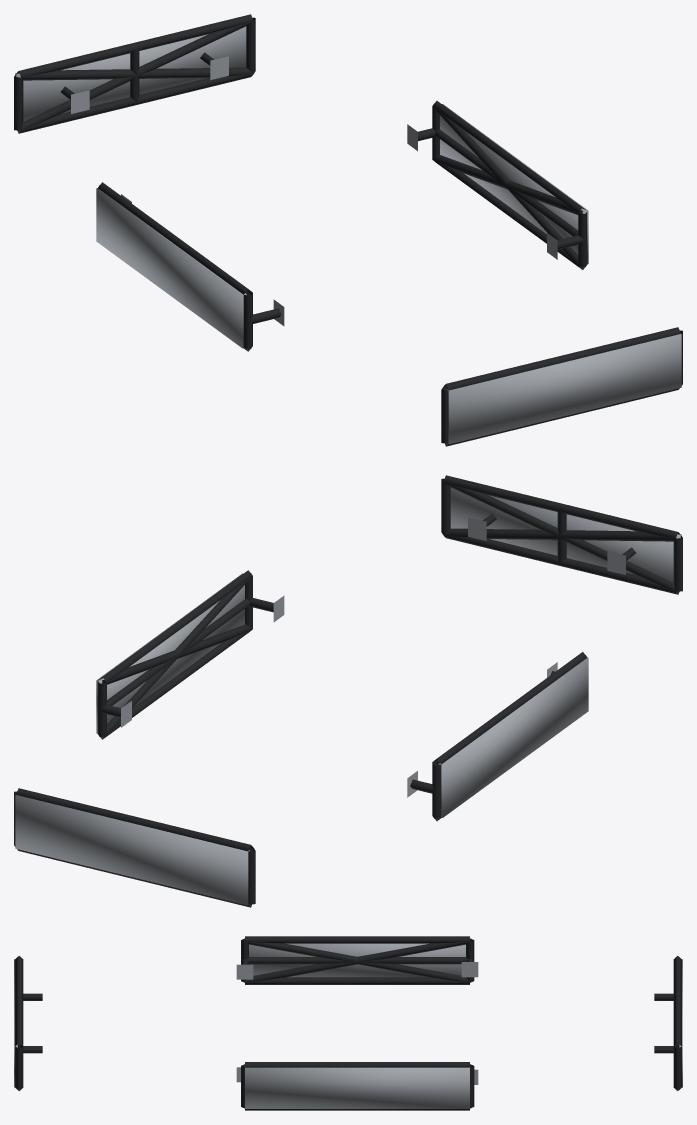
Rendered from feldhaus_chale_protecao.glb.
3 views of the same model, one above another, from view 1: azimuth 30°, elevation 25°; view 2: azimuth 150°, elevation 25°; view 3: azimuth 270°, elevation 25° (orthographic). The views are drawn at different scales.
Parts seen in each view (by area): view 1: Protection_front_Level3_Details, Protection_left_Level3_Details, Protection_rear_Level1_Details, Protection_rear_Level3_Details, Protection_right_Level1_Details, Protection_rear_Level2_Details, Protection_right_Level2_Details, Protection_right_Level3_Details, Protection_front_Level1_Details, Protection_left_Level1_Details; view 2: Protection_rear_Level3_Details, Protection_left_Level3_Details, Protection_front_Level1_Details, Protection_front_Level3_Details, Protection_right_Level1_Details, Protection_front_Level2_Details, Protection_right_Level2_Details, Protection_right_Level3_Details, Protection_rear_Level1_Details, Protection_left_Level1_Details; view 3: Protection_right_Level3_Details, Protection_left_Level2_Details, Protection_left_Level1_Details, Protection_left_Level3_Details, Protection_right_Level1_Details, Protection_rear_Level1_Details, Protection_front_Level1_Details.
Boxes of the visible parts, box(x1,y1,x2,y2) form: Protection_front_Level3_Details: box(447, 334, 681, 444); Protection_left_Level3_Details: box(96, 188, 246, 348); Protection_rear_Level1_Details: box(14, 14, 255, 133); Protection_rear_Level3_Details: box(15, 26, 246, 121); Protection_right_Level1_Details: box(407, 100, 587, 269); Protection_rear_Level2_Details: box(16, 21, 253, 132); Protection_right_Level2_Details: box(432, 107, 586, 269); Protection_right_Level3_Details: box(440, 104, 588, 264); Protection_front_Level1_Details: box(441, 327, 682, 446); Protection_left_Level1_Details: box(98, 182, 284, 351); Protection_rear_Level3_Details: box(15, 795, 249, 905); Protection_left_Level3_Details: box(438, 657, 588, 817); Protection_front_Level1_Details: box(441, 475, 682, 594); Protection_front_Level3_Details: box(450, 487, 681, 582); Protection_right_Level1_Details: box(97, 570, 284, 739); Protection_front_Level2_Details: box(443, 482, 680, 593); Protection_right_Level2_Details: box(98, 576, 252, 738); Protection_right_Level3_Details: box(96, 573, 244, 733); Protection_rear_Level1_Details: box(14, 788, 255, 907); Protection_left_Level1_Details: box(407, 652, 587, 821); Protection_right_Level3_Details: box(245, 1067, 469, 1108); Protection_left_Level2_Details: box(244, 939, 470, 982); Protection_left_Level1_Details: box(236, 936, 478, 984); Protection_left_Level3_Details: box(249, 943, 465, 977); Protection_right_Level1_Details: box(236, 1062, 478, 1110); Protection_rear_Level1_Details: box(654, 956, 681, 1090); Protection_front_Level1_Details: box(15, 956, 42, 1090).
Bounding box in the file's own units: 2.04 × 0.354 × 4.43.
1 material, 1 textured.
